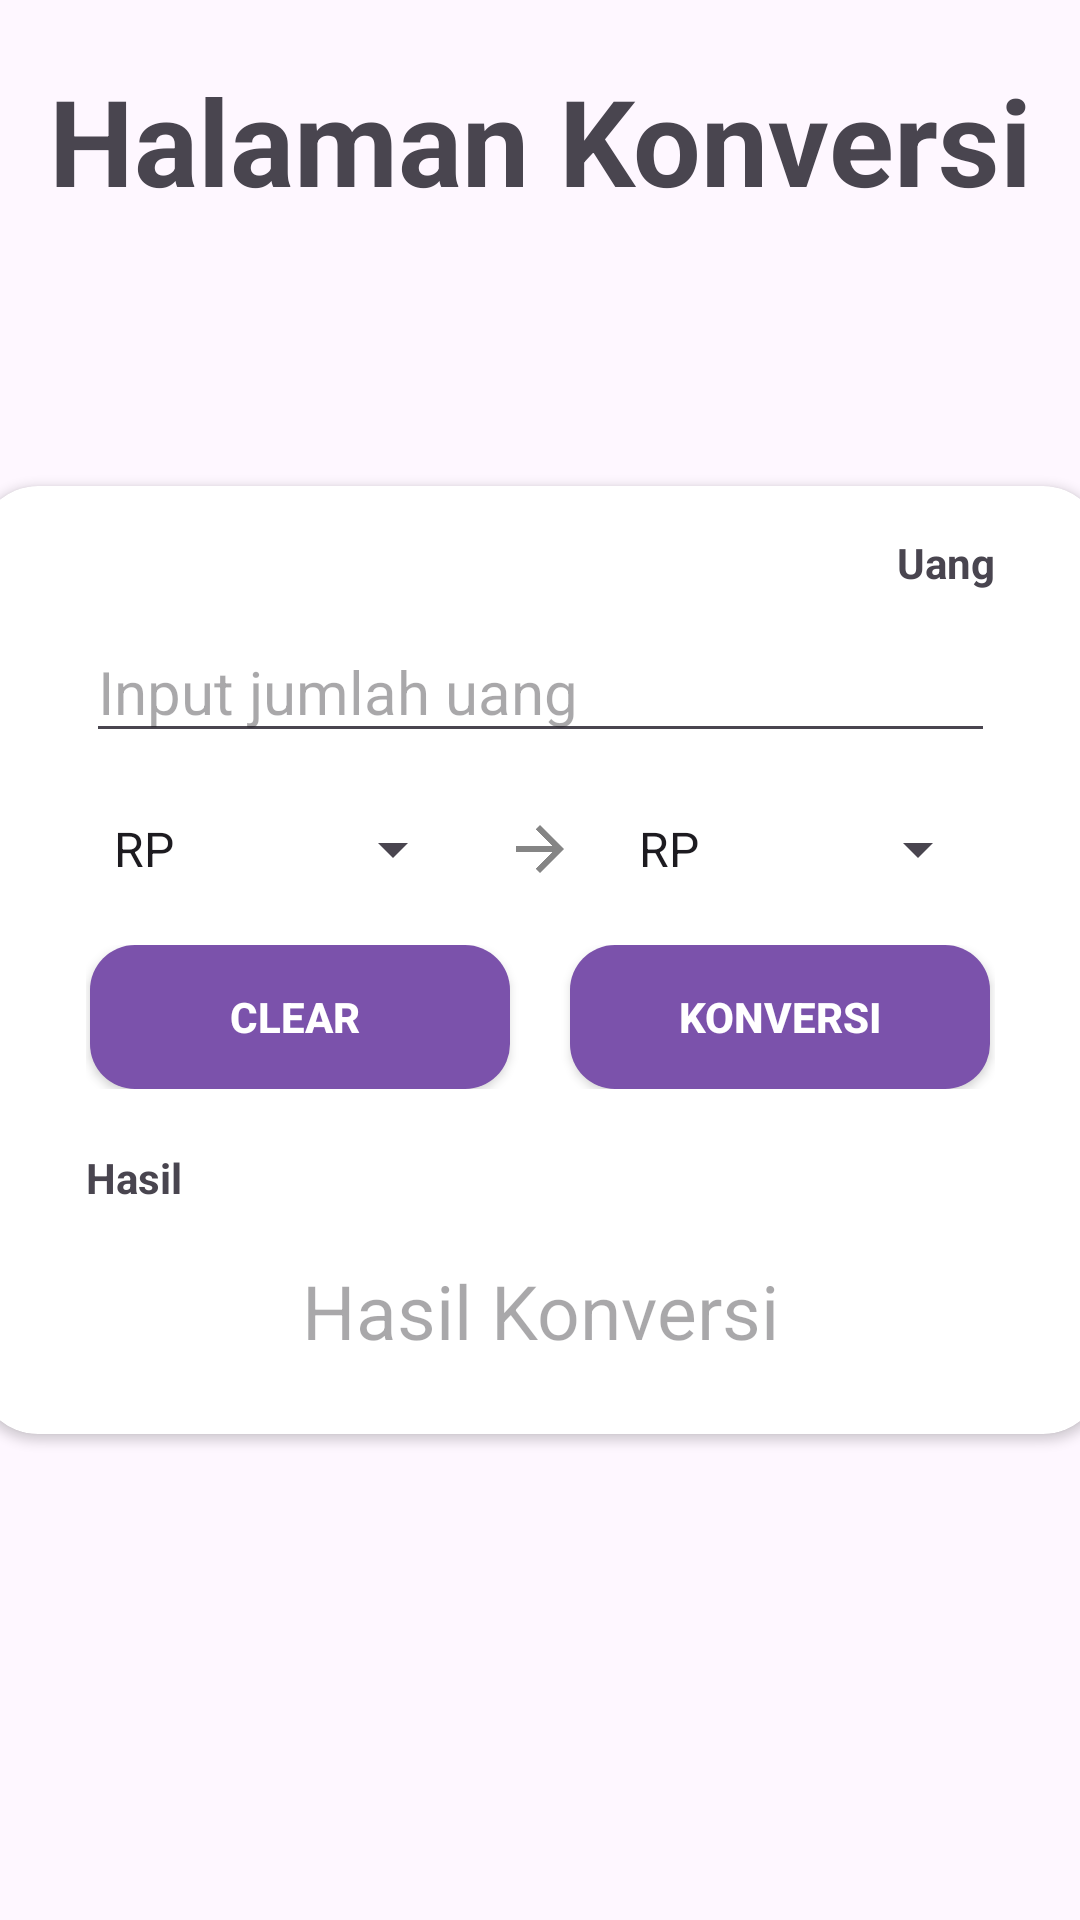

Icon click points for this 1080px×1920px phone screenshot, format (x=x, y=y):
arrow right: (x=540, y=849)
